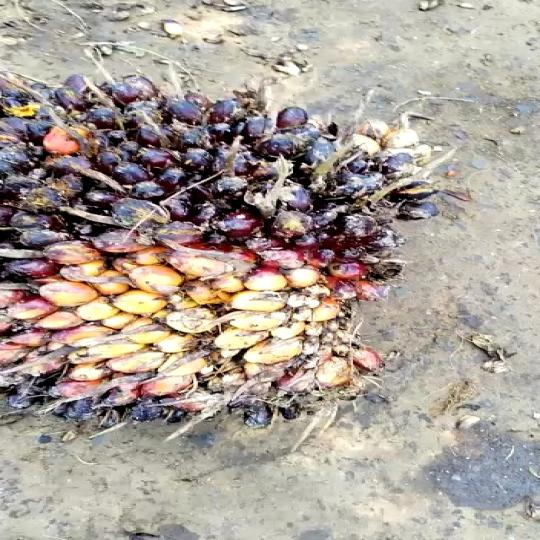mentah: (7, 65, 449, 442)
